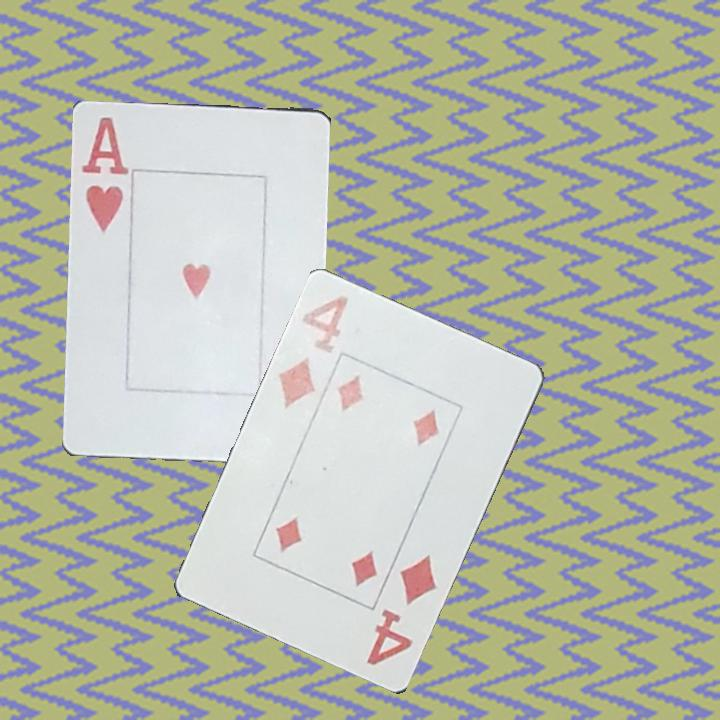4d: (274, 292, 352, 412), (363, 551, 442, 669)
Ah: (77, 113, 131, 235)
